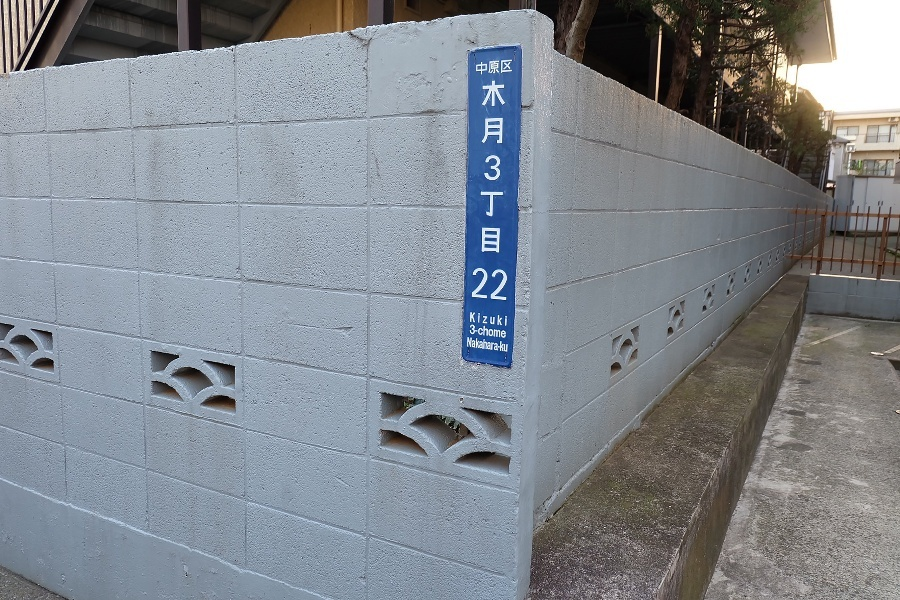text: (481, 78, 496, 258), (497, 78, 507, 258), (481, 267, 496, 304), (497, 267, 509, 304), (472, 267, 480, 304), (481, 310, 496, 329), (497, 59, 513, 76), (481, 59, 496, 76), (481, 337, 496, 354), (481, 324, 496, 340), (497, 310, 509, 329), (467, 337, 480, 354), (497, 337, 509, 354), (497, 324, 509, 340), (470, 310, 480, 329), (469, 324, 480, 340), (475, 59, 480, 76)
